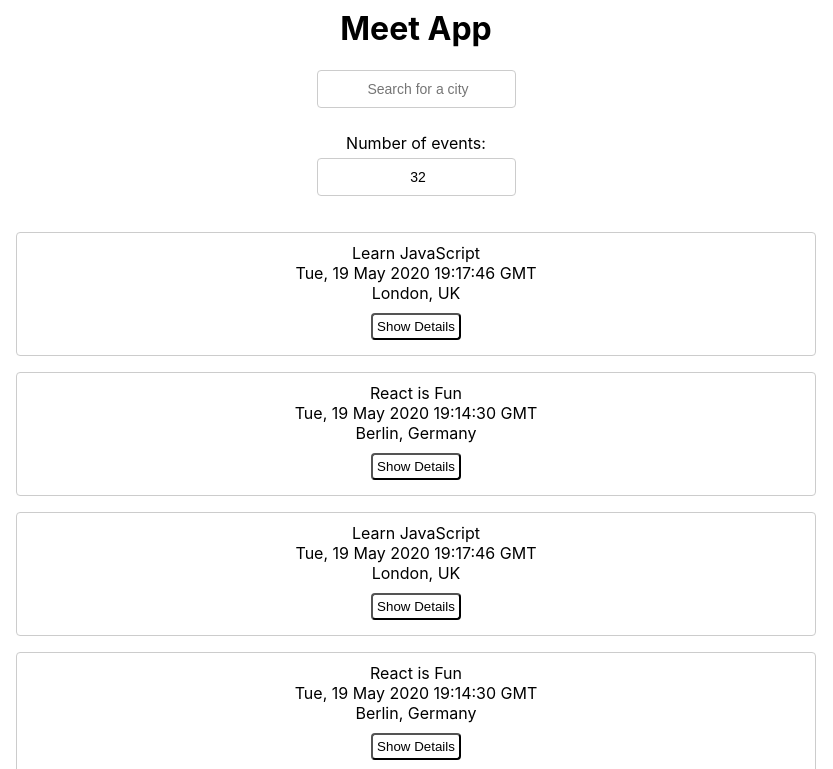
<App /> integration › renders a list of events matching the city selected by the user
Step 1. Type "Berlin" into the field with placeholder "Search for a city" → (416, 89), box [316,70,516,108]
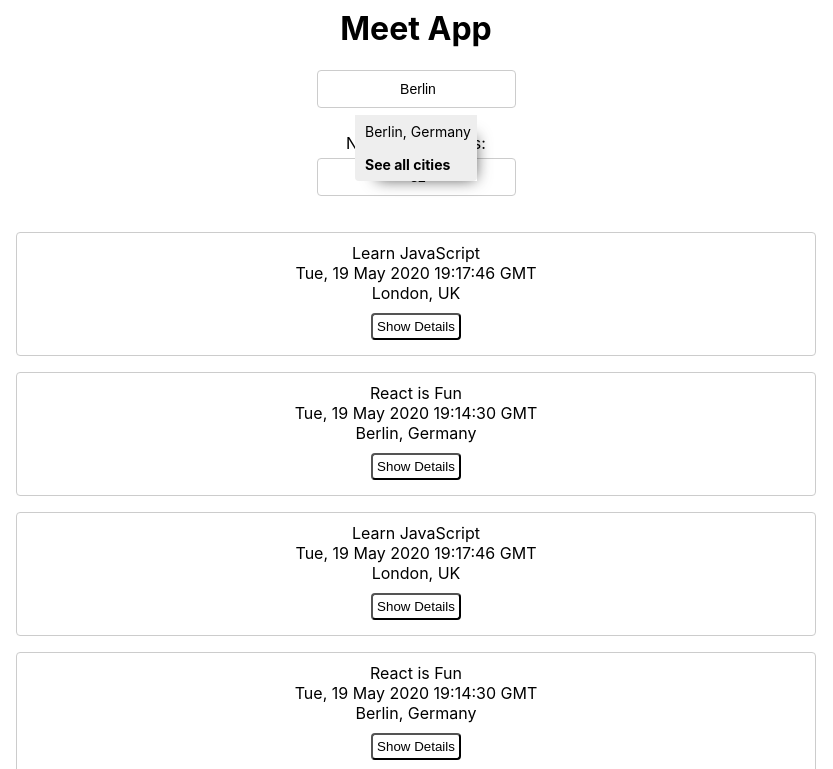
Step 2. Click the list item "Berlin, Germany" → (416, 131), box [355,115,477,148]
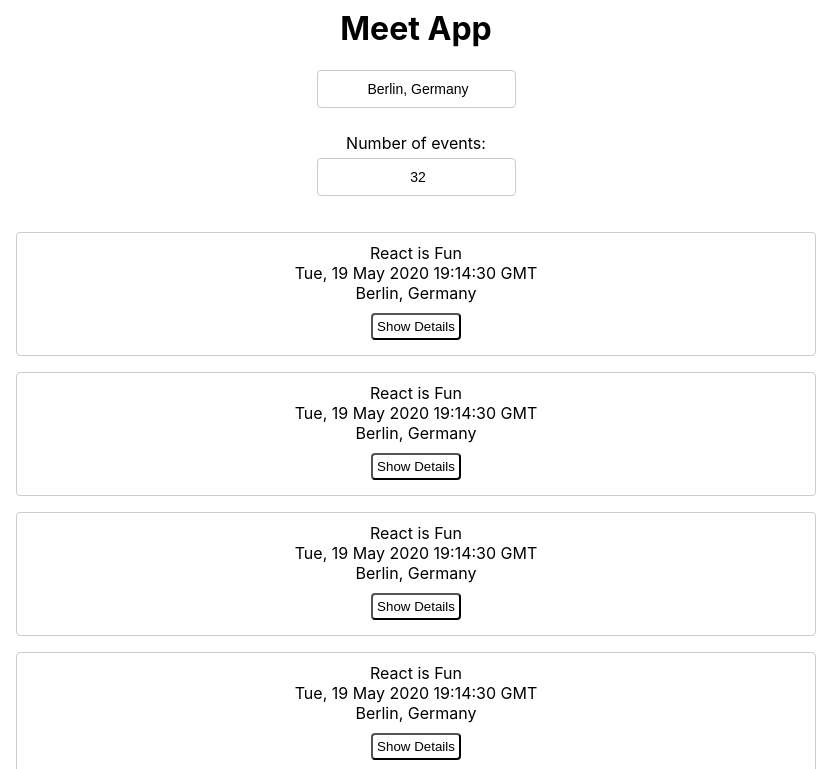
Result: the number of list items is 17
